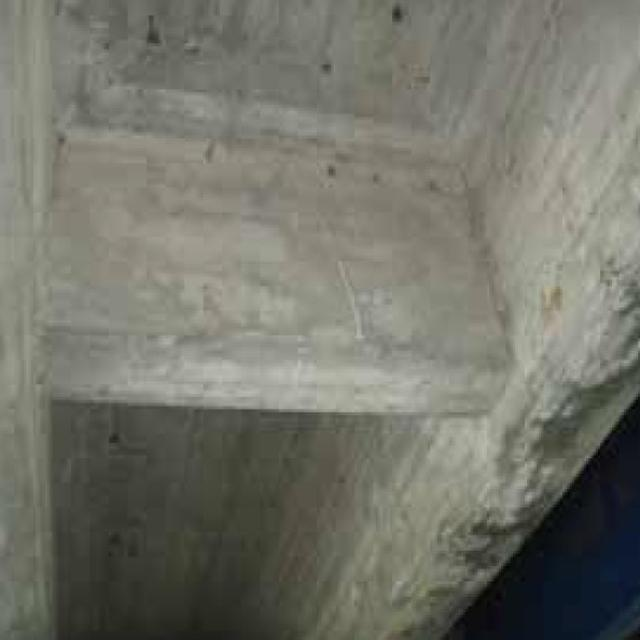crack: (313, 203, 377, 358)
